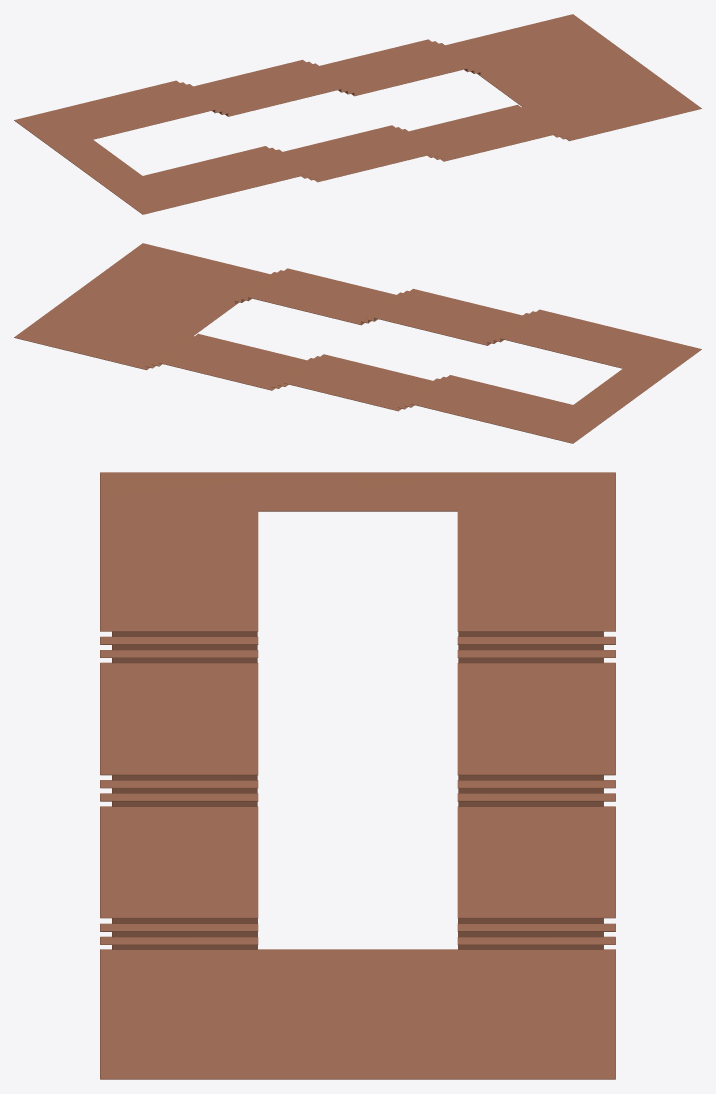
Rendered from FloorTopper.fbx.
3 renders of one model, top to bottom at view 1: azimuth 30°, elevation 25°; view 2: azimuth 150°, elevation 25°; view 3: azimuth 270°, elevation 25°, orthographic. The views are drawn at different scales.
Visible parts, largest first — view 1: FloortopL, FloortopR; view 2: FloortopR, FloortopL; view 3: FloortopR, FloortopL.
Boxes of the visible parts, left/top/right/bottom form: FloortopL: left=78, top=61, right=701, bottom=214; FloortopR: left=14, top=14, right=636, bottom=167; FloortopR: left=14, top=290, right=637, bottom=443; FloortopL: left=79, top=243, right=701, bottom=396; FloortopR: left=358, top=472, right=615, bottom=1079; FloortopL: left=100, top=472, right=357, bottom=1079.
Bounding box in the file's own units: 2879 × 152 × 1150.
